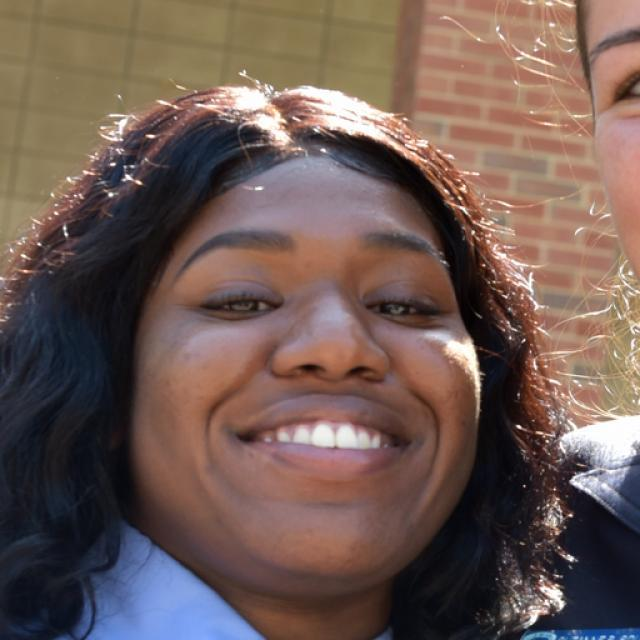happy: (134, 150, 480, 580)
